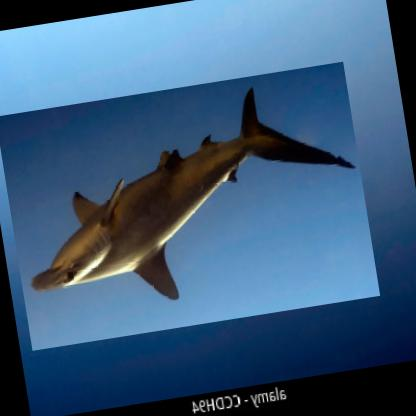hammerhead_Shark: (0, 62, 381, 353)
